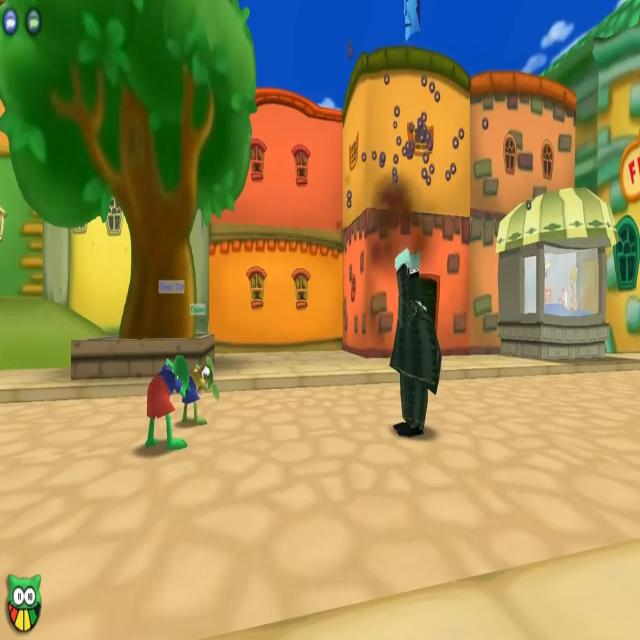shortchange: (390, 251, 442, 438)
